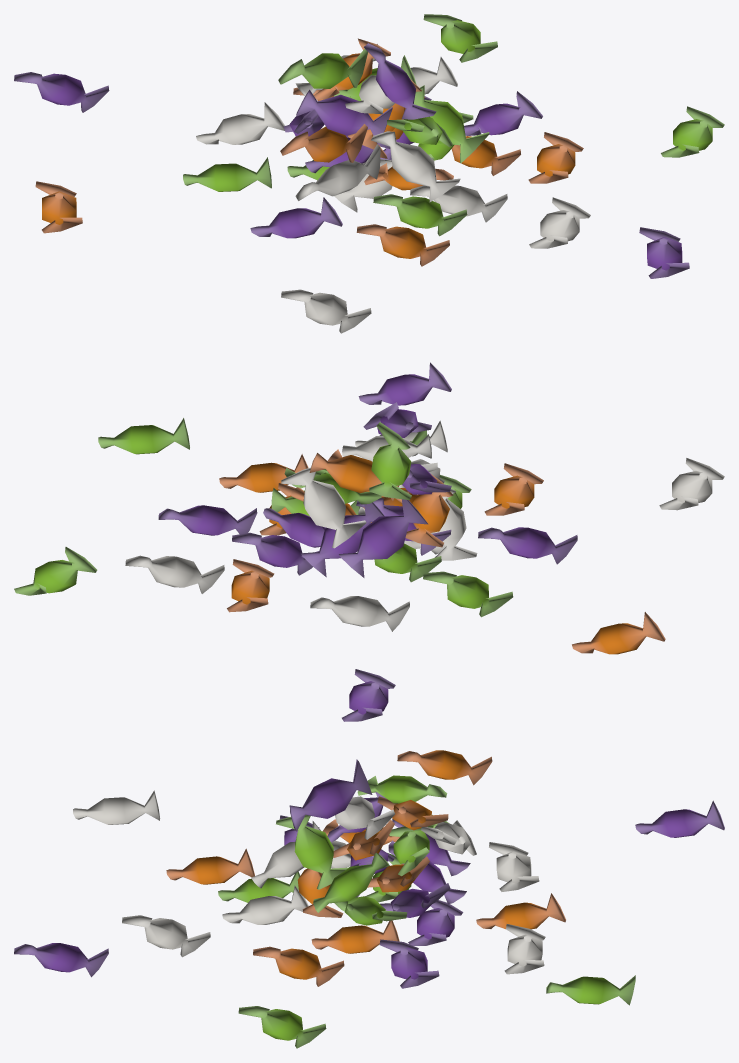
3 views of the same model, one above another, from view 1: azimuth 30°, elevation 25°; view 2: azimuth 150°, elevation 25°; view 3: azimuth 270°, elevation 25° (orthographic). The views are drawn at different scales.
Visible parts, largest first — view 1: Wrapped_sweets001; view 2: Wrapped_sweets001; view 3: Wrapped_sweets001.
Part boxes in pixels (bbox=[...]): Wrapped_sweets001: bbox=[14, 14, 724, 333]; Wrapped_sweets001: bbox=[14, 362, 724, 721]; Wrapped_sweets001: bbox=[14, 750, 724, 1048].
Size of the model in its own units: 0.2501 by 0.057 by 0.2564.
